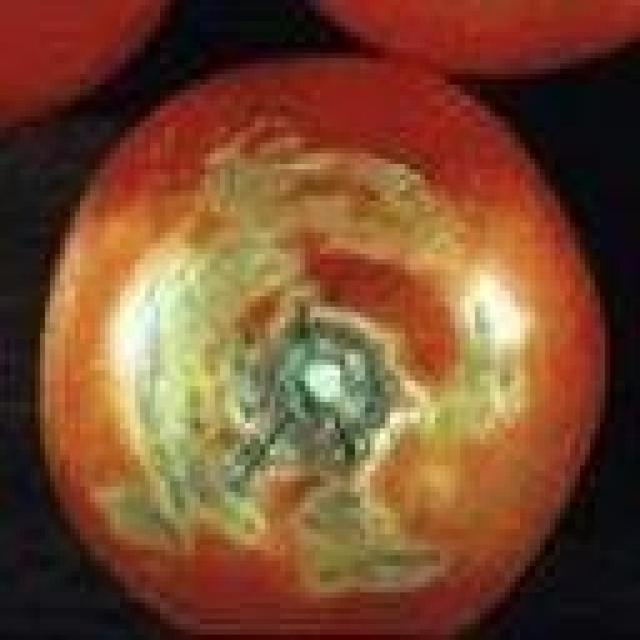Cracking Fruit: (90, 61, 306, 365)
